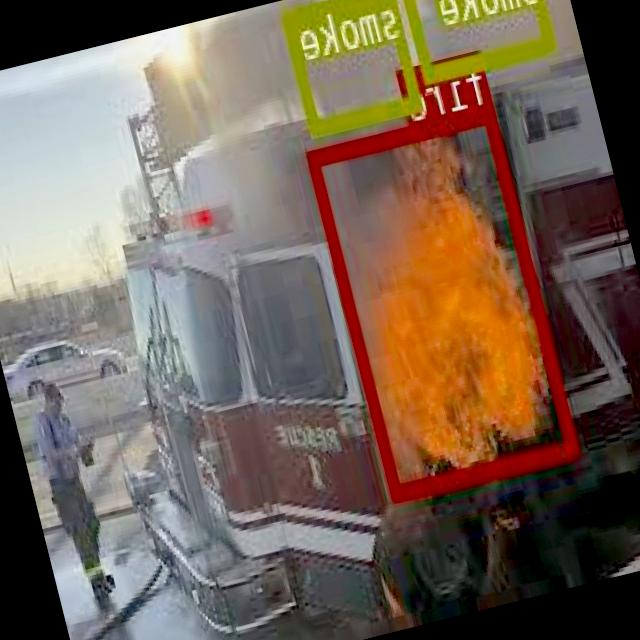fire: (308, 101, 578, 496)
smoke: (281, 0, 424, 134), (402, 0, 557, 78)
